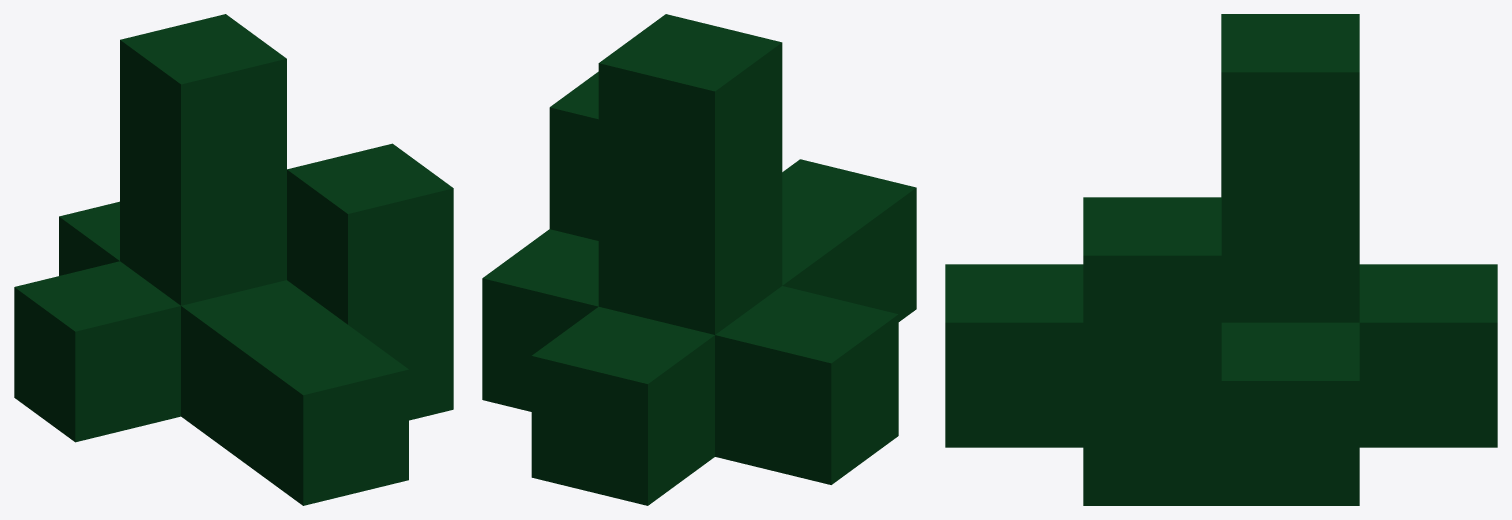
Rendered from GrassPiece1.fbx.
The picture shows the model from 3 angles, left to right: view 1: azimuth 30°, elevation 25°; view 2: azimuth 150°, elevation 25°; view 3: azimuth 270°, elevation 25°; orthographic projection. The views are drawn at different scales.
Parts seen in each view (by area): view 1: Matrix_Piece0_0_0_Piece0_0_0; view 2: Matrix_Piece0_0_0_Piece0_0_0; view 3: Matrix_Piece0_0_0_Piece0_0_0.
Boxes of the visible parts, left/top/right/bottom form: Matrix_Piece0_0_0_Piece0_0_0: left=14, top=14, right=453, bottom=505; Matrix_Piece0_0_0_Piece0_0_0: left=482, top=14, right=916, bottom=505; Matrix_Piece0_0_0_Piece0_0_0: left=945, top=14, right=1497, bottom=505.
Size of the model in its own units: 3 by 3 by 4.
1 material, 1 textured.
